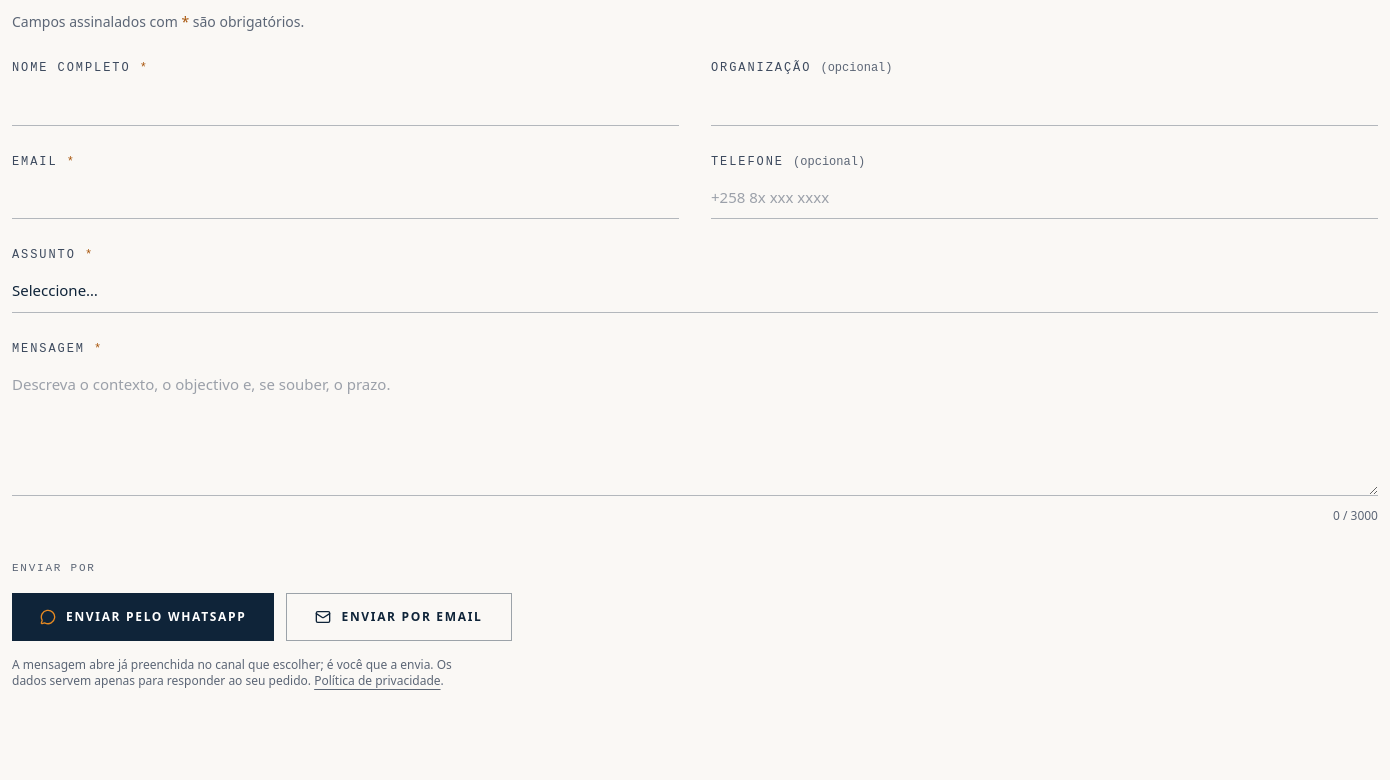
Test: ContactForm — visitor journey › shows Portuguese errors, focuses the first invalid field and opens nothing
The width and height of the screenshot is (1390, 780).
Click the button "Enviar pelo WhatsApp" at (143, 616), box [12,592,274,640]
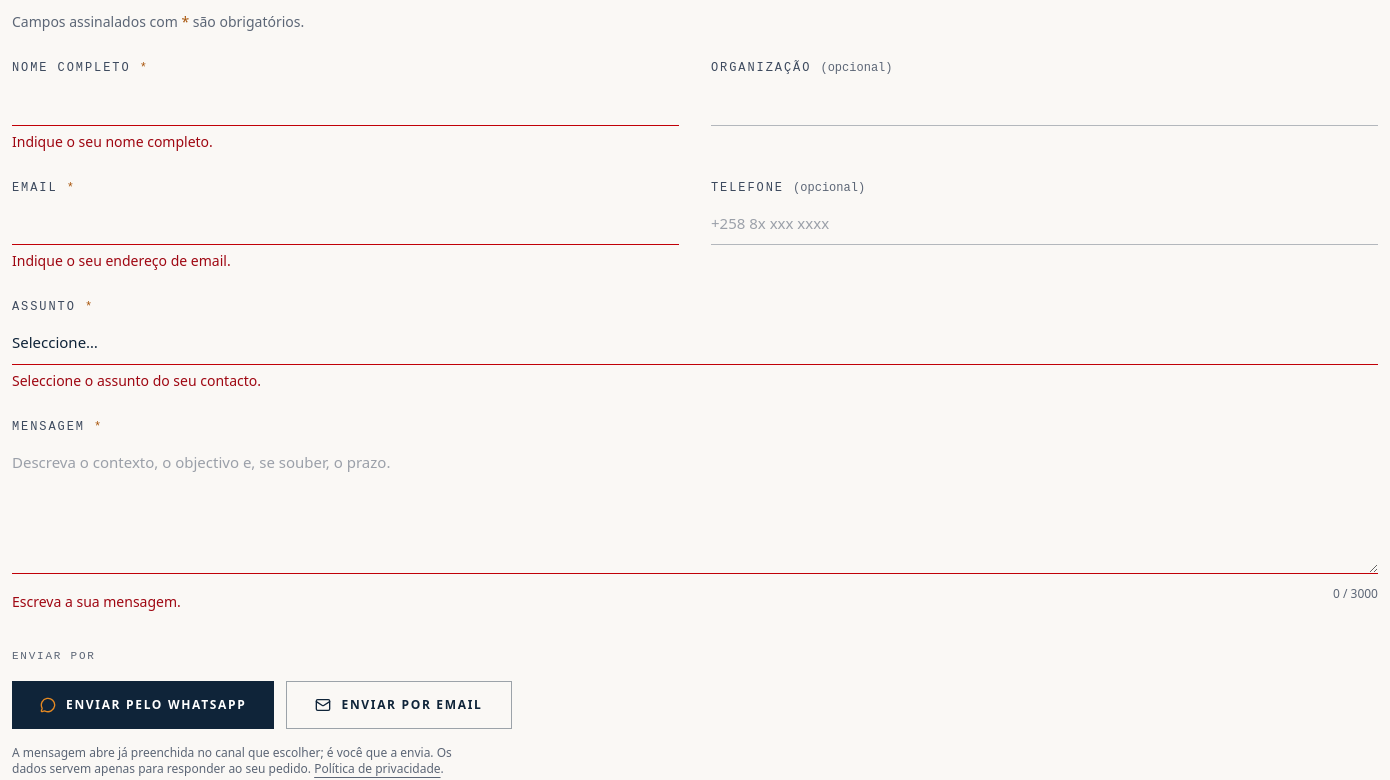
Expected: the text "Indique o seu nome completo." is shown, [12,132,213,150]
Expected: the text "Indique o seu endereço de email." is shown, [12,251,231,270]
Expected: the text "Seleccione o assunto do seu contacto." is shown, [12,370,261,390]
